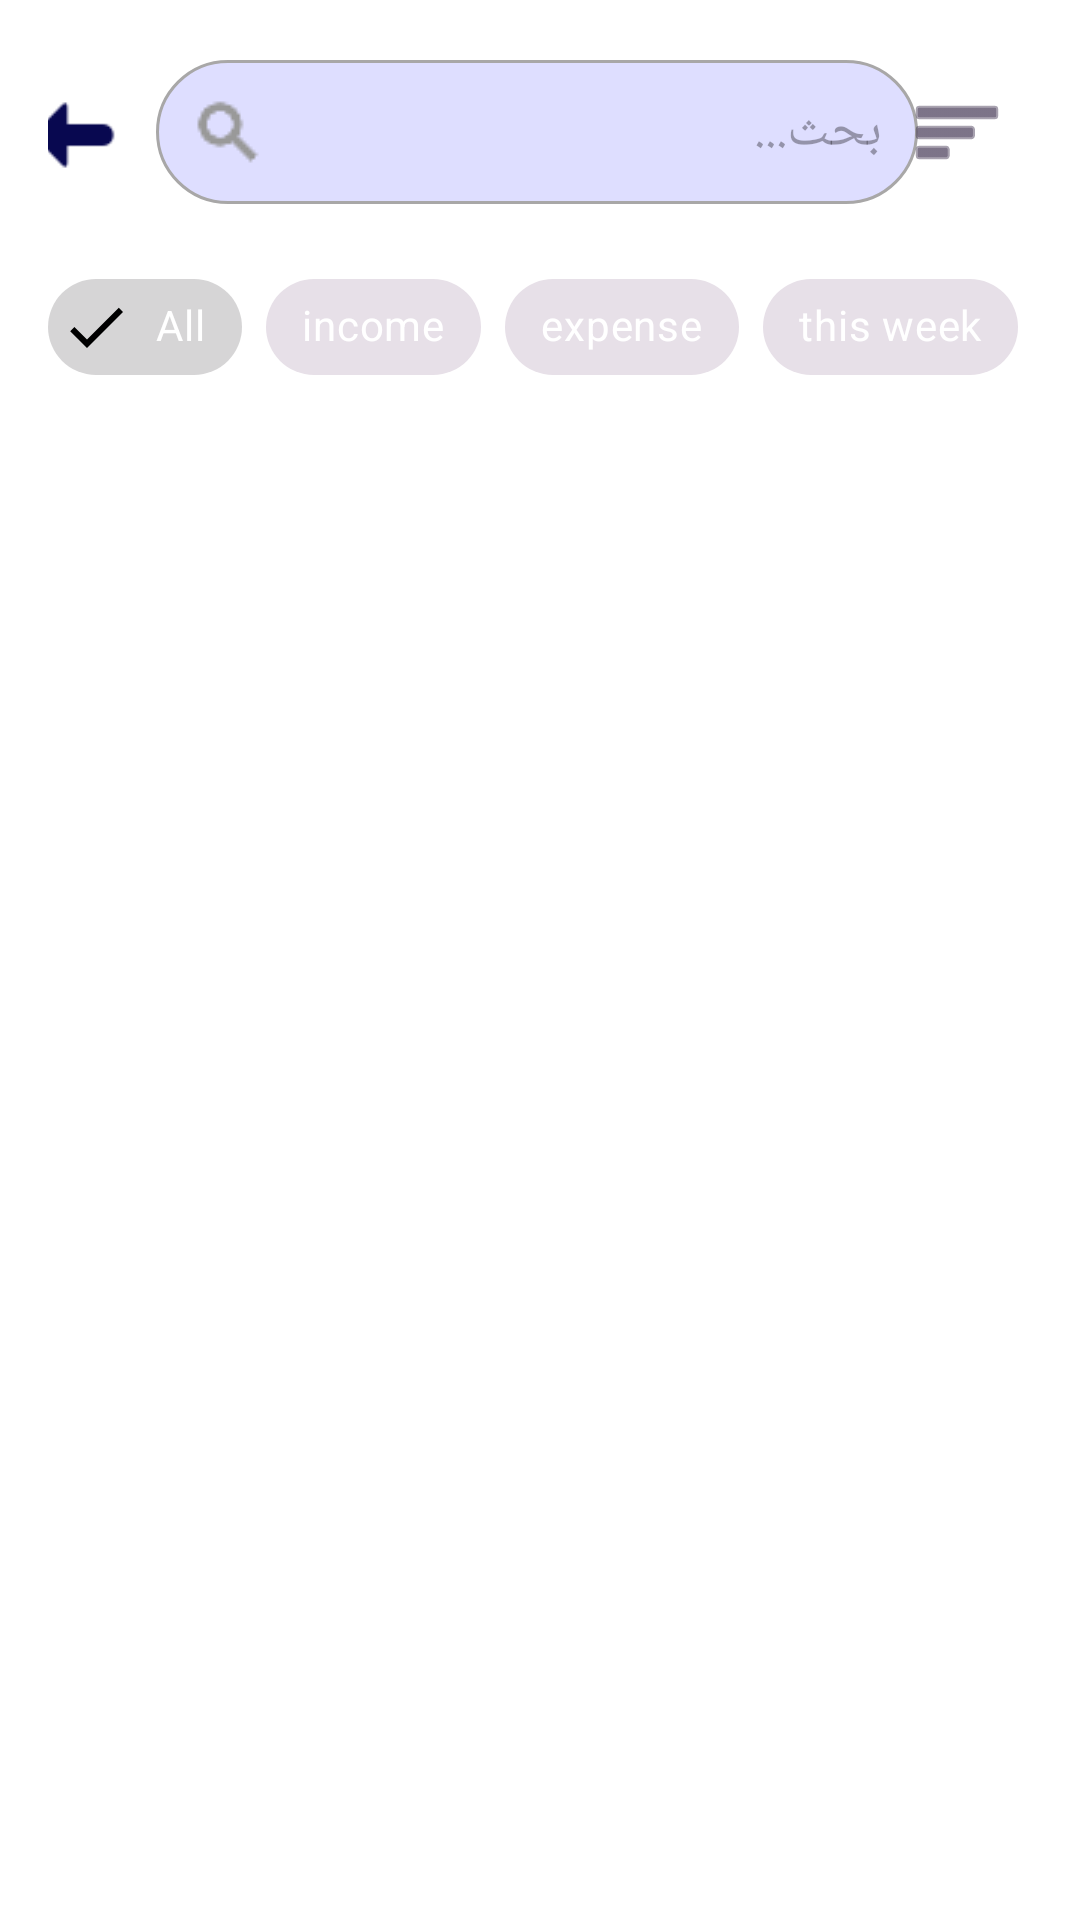

Screen size 1080×1920. Icon name, then its box in pixels as box=[x1, y1, x2, y2]:
arrow: box=[48, 102, 115, 168]
